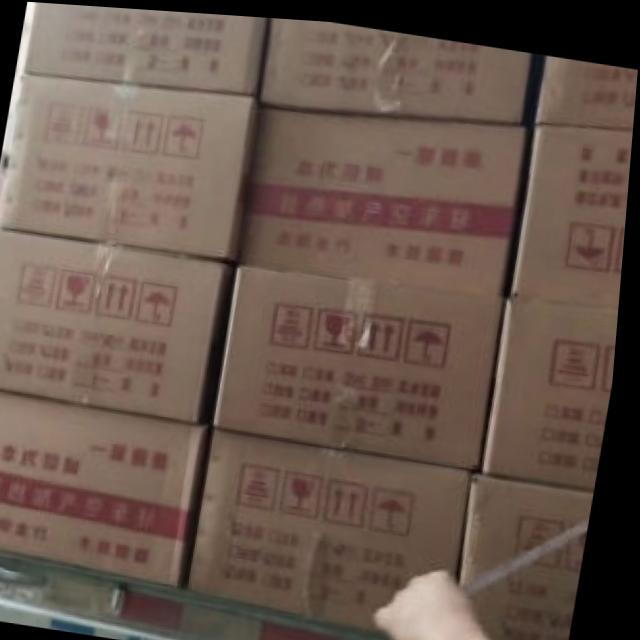box: (219, 263, 505, 463), (195, 427, 475, 622), (243, 102, 527, 289), (0, 71, 259, 258), (0, 228, 231, 419), (0, 389, 218, 582), (260, 14, 534, 117), (489, 290, 623, 480), (469, 465, 601, 640), (514, 117, 634, 300), (22, 2, 267, 91), (530, 49, 638, 120)
